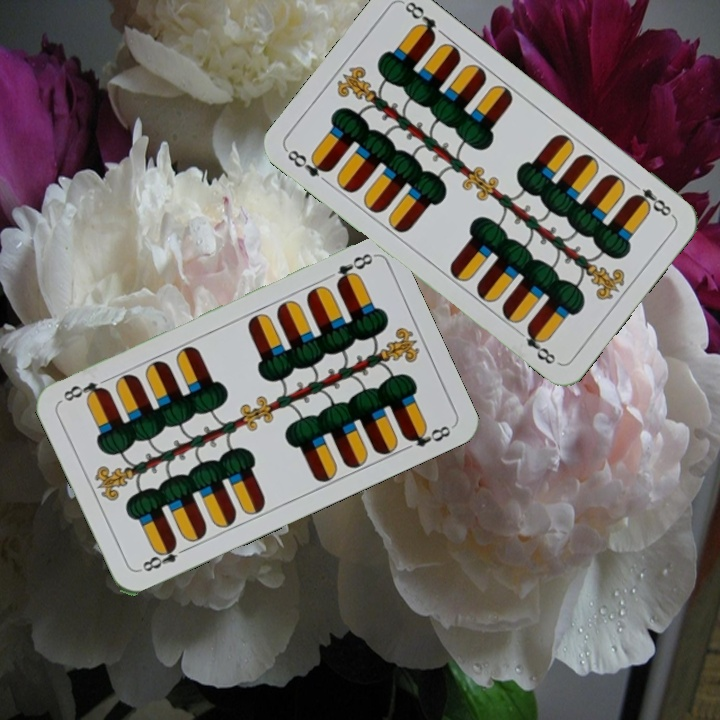E8: (627, 177, 676, 220), (321, 249, 375, 288), (136, 538, 191, 575), (282, 145, 334, 180)
